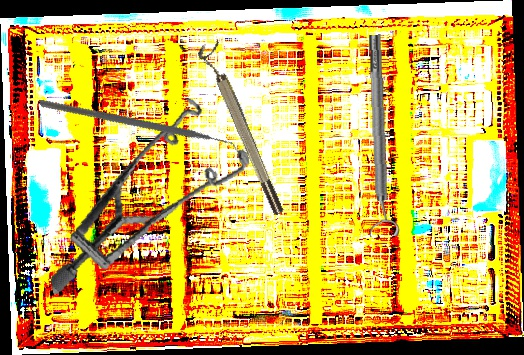Chopper: (38, 42, 242, 218)
Fixation Ring: (195, 39, 287, 220), (359, 33, 401, 238)
Speculum: (23, 89, 267, 295)
